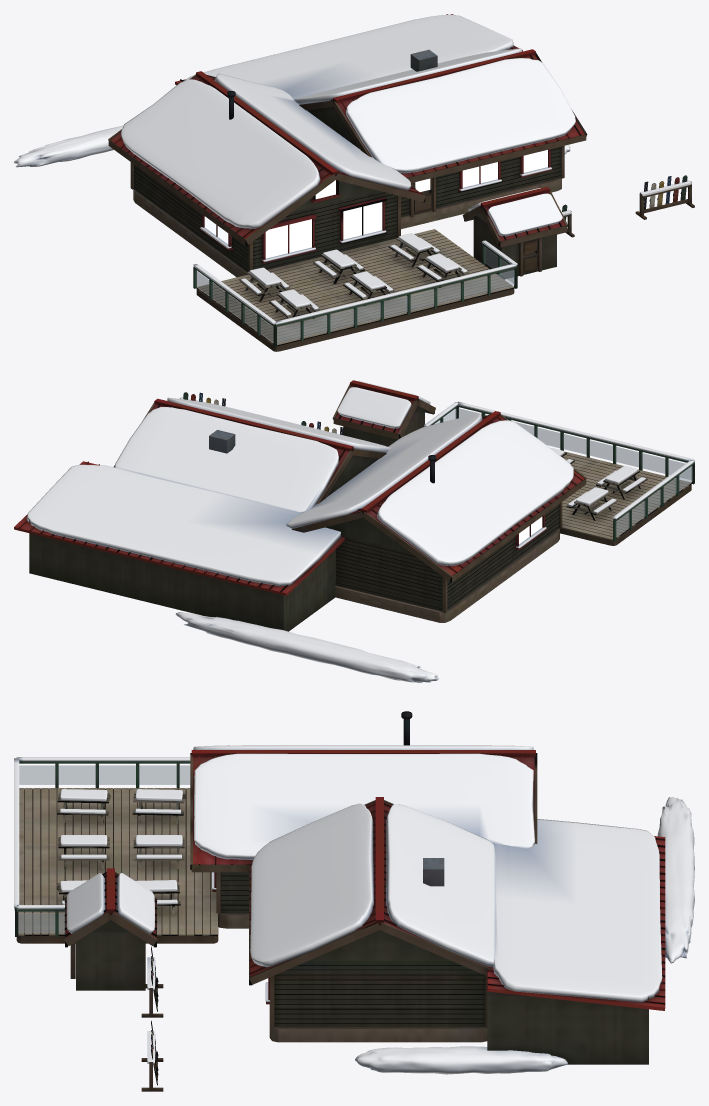
Rendered from cloud_nine.glb.
3 views of the same model, one above another, from view 1: azimuth 30°, elevation 25°; view 2: azimuth 150°, elevation 25°; view 3: azimuth 270°, elevation 25° (orthographic). The views are drawn at different scales.
Visible parts, largest first — view 1: cloud_nine_snow, cloud_nine, cloud_nine_glass, cloud_nine_lit; view 2: cloud_nine_snow, cloud_nine, cloud_nine_glass; view 3: cloud_nine_snow, cloud_nine, cloud_nine_glass.
Part boxes in pixels (x1=…): cloud_nine_snow: x1=14, y1=15, x2=691, y2=324; cloud_nine: x1=108, y1=14, x2=694, y2=351; cloud_nine_glass: x1=196, y1=247, x2=514, y2=343; cloud_nine_lit: x1=204, y1=150, x2=547, y2=258; cloud_nine_snow: x1=27, y1=381, x2=694, y2=682; cloud_nine: x1=14, y1=380, x2=694, y2=631; cloud_nine_glass: x1=435, y1=408, x2=692, y2=536; cloud_nine_snow: x1=14, y1=745, x2=694, y2=1074; cloud_nine: x1=14, y1=711, x2=665, y2=1091; cloud_nine_glass: x1=18, y1=765, x2=190, y2=932.
Size of the model in its own units: 25.47 by 6.78 by 25.31.
Materials: 5 (1 with a texture image).
